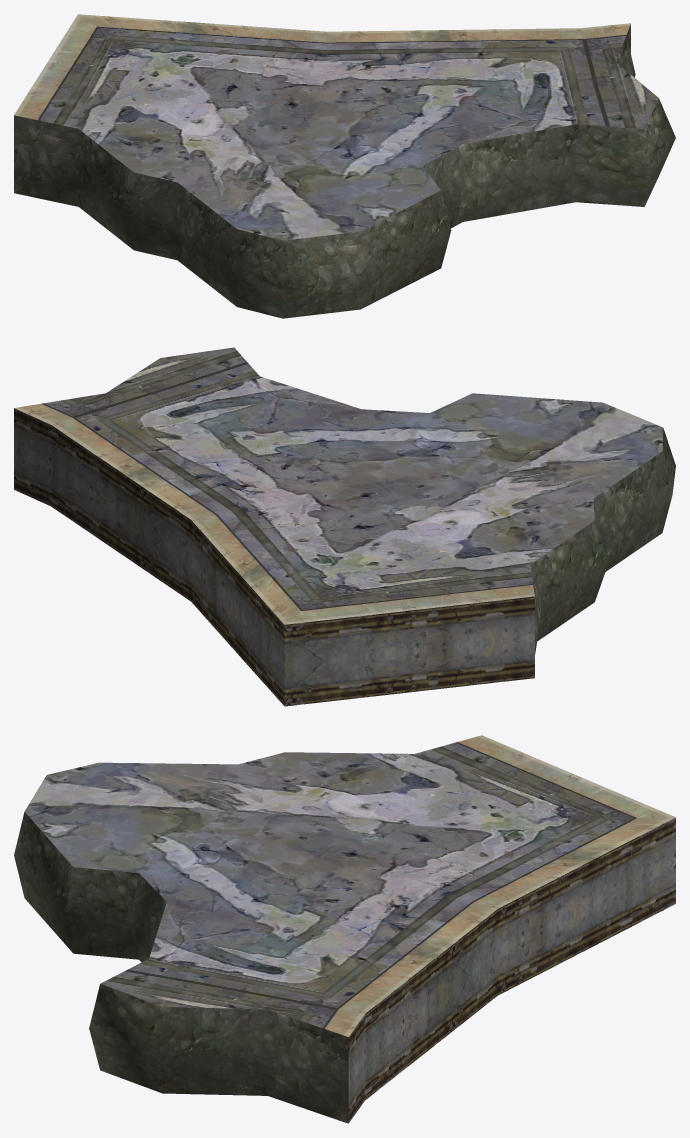
File: bel_arch_rakata_raid_infernal_platform_piece01.glb
3 renders of one model, top to bottom at view 1: azimuth 30°, elevation 25°; view 2: azimuth 150°, elevation 25°; view 3: azimuth 270°, elevation 25°, orthographic. The views are drawn at different scales.
Visible parts, largest first — view 1: bel_arch_rakata_raid_infernal_platform_piece01; view 2: bel_arch_rakata_raid_infernal_platform_piece01; view 3: bel_arch_rakata_raid_infernal_platform_piece01.
Boxes of the visible parts, box(x1,y1,x2,y2) form: bel_arch_rakata_raid_infernal_platform_piece01: box(14, 14, 675, 318); bel_arch_rakata_raid_infernal_platform_piece01: box(14, 347, 675, 706); bel_arch_rakata_raid_infernal_platform_piece01: box(14, 735, 675, 1123).
Bounding box in the file's own units: 1.5 × 0.2 × 1.39.
Materials: 3 (3 with a texture image).
